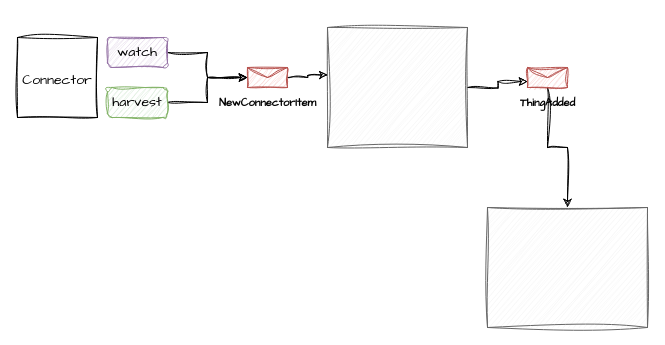
Image size: 665x345. Some labels were removed from this diagram. Each missing label, with the centre of its shape:
"IngestService Save Thing Save data Resolve type Send Message ." belongs at point 397,87.
"PostProcess Workflow Create thumbnails PdfOcr ExtractContent Detect/Classify ." belongs at point 567,267.
